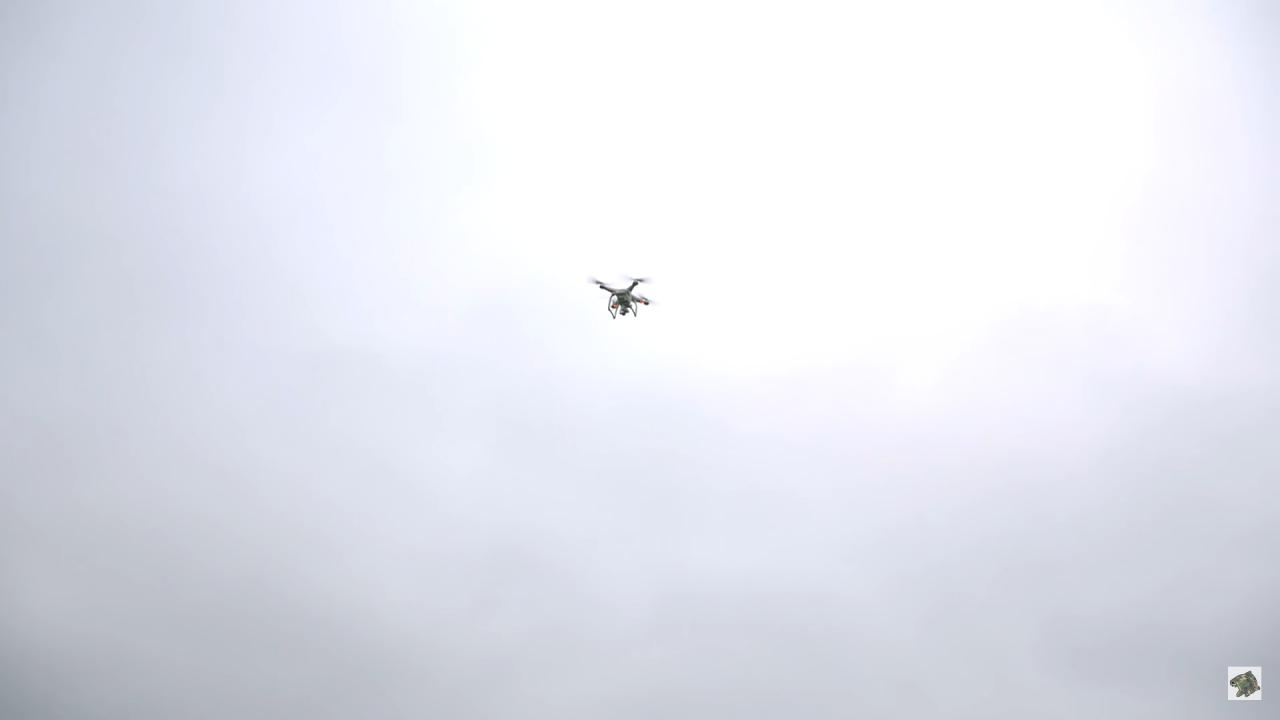Drone: (576, 267, 670, 327)
